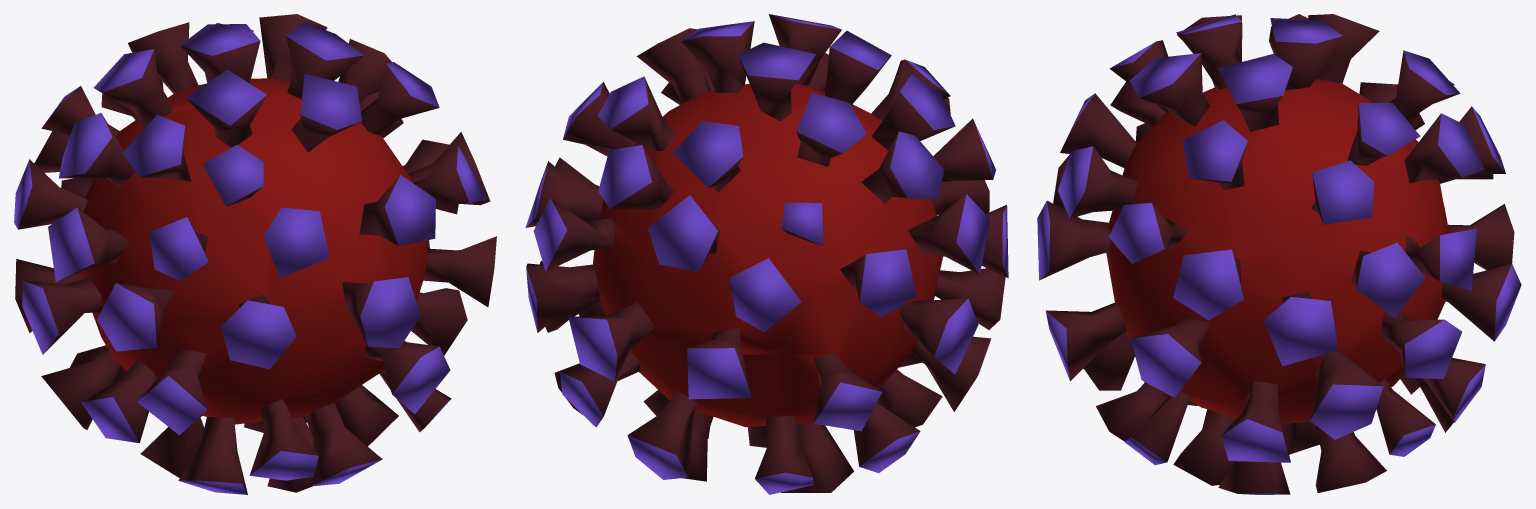
Rendered from Virus.fbx.
3 renders of one model, left to right at view 1: azimuth 30°, elevation 25°; view 2: azimuth 150°, elevation 25°; view 3: azimuth 270°, elevation 25°, orthographic.
Visible parts, largest first — view 1: Virus; view 2: Virus; view 3: Virus.
Boxes of the visible parts, x1,y1,x2,y2 form: Virus: (14, 14, 496, 494); Virus: (525, 14, 1008, 494); Virus: (1037, 14, 1521, 494).
Size of the model in its own units: 232 by 235 by 231.
1 material, 1 textured.
